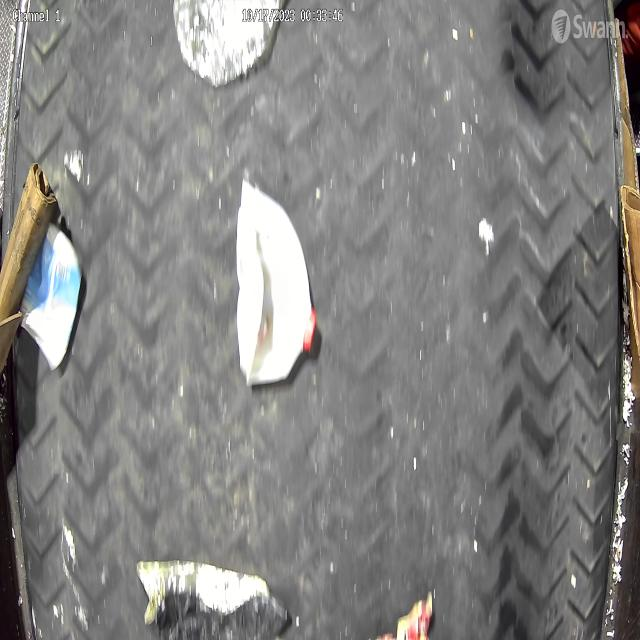milk_jug: (236, 183, 318, 379)
non_white_jug: (17, 222, 81, 370)
